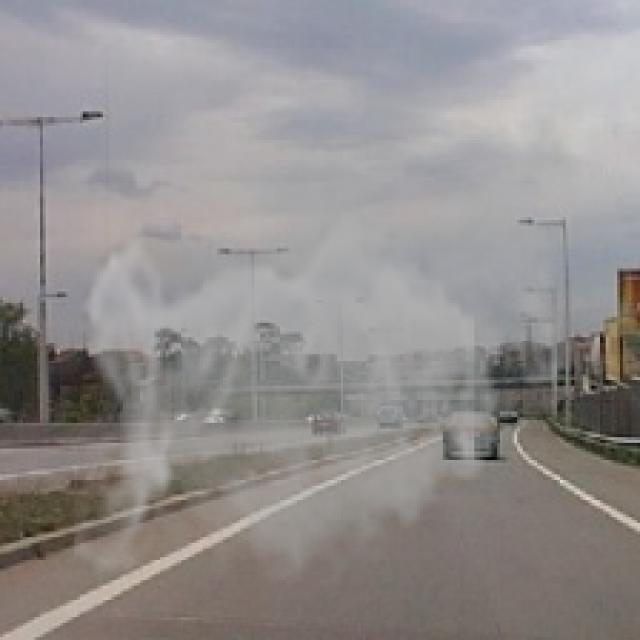smoke: (74, 48, 597, 603)
